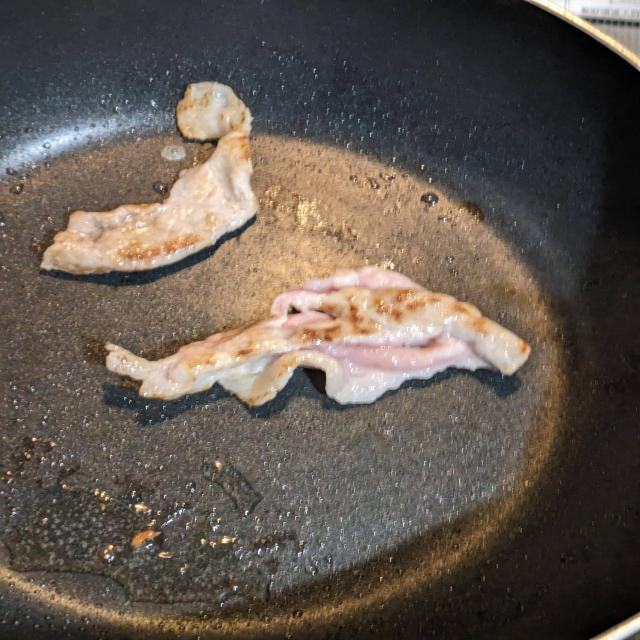NG undercooked pork,: (92, 257, 546, 413)
OK cooked pork,: (21, 77, 270, 284)
